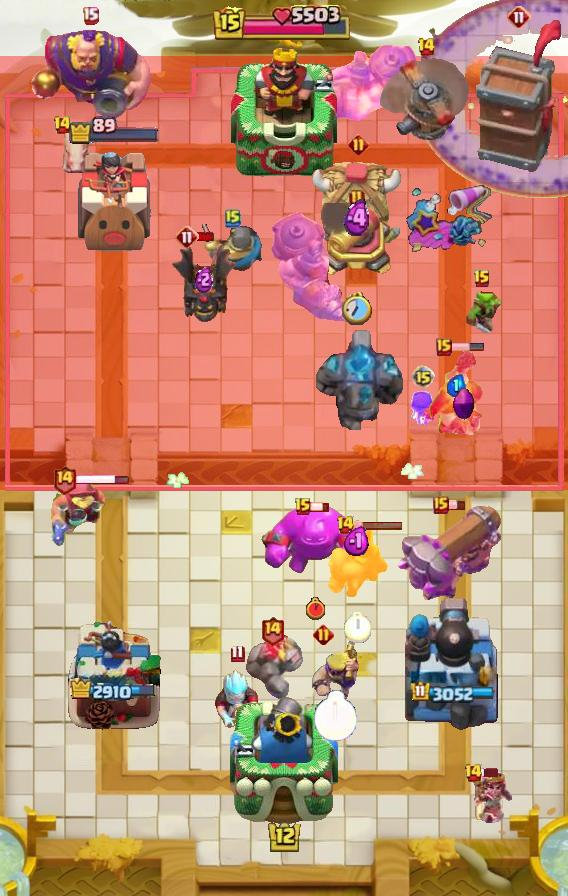archer-evolution: (171, 242, 237, 326)
arrows: (309, 637, 361, 699)
bomber-evolution: (460, 771, 514, 829)
cannoneer-tower: (313, 327, 403, 431)
clock: (213, 5, 355, 43)
clone: (260, 503, 370, 577)
dark-prince: (378, 58, 474, 140)
dart-goblin: (474, 18, 564, 174)
electro-spirit: (344, 199, 373, 238), (343, 527, 371, 558), (195, 265, 213, 293), (446, 375, 466, 398)
elite-barbarian: (325, 521, 389, 601)
elixir: (313, 690, 358, 742), (342, 292, 372, 324), (345, 613, 372, 644), (306, 596, 326, 619)
emote: (74, 473, 129, 486), (352, 521, 404, 532), (449, 342, 485, 352), (196, 231, 216, 243), (310, 501, 330, 513), (446, 500, 466, 511), (480, 766, 500, 777)
fireball: (49, 479, 111, 549)
firecracker: (203, 224, 265, 272)
furnace: (395, 501, 505, 603)
giant: (61, 124, 95, 180)
goblin: (407, 389, 441, 429)
king-tower: (231, 43, 337, 181), (230, 692, 338, 826)
lightning: (26, 29, 155, 121)
mortar: (213, 664, 261, 730)
prince: (311, 160, 405, 250)
queen-tower: (65, 617, 163, 731), (71, 144, 157, 255)
rocket: (414, 0, 568, 198)
royal-recruit: (318, 203, 396, 279)
selected: (67, 115, 160, 144), (70, 678, 158, 704), (411, 681, 495, 703)
skeleton-king-skill: (453, 387, 475, 421)
text: (51, 464, 76, 495), (259, 615, 284, 645), (507, 5, 531, 29), (175, 225, 199, 249), (411, 365, 435, 389), (348, 133, 369, 154), (314, 623, 335, 644), (416, 37, 436, 57), (52, 115, 72, 135), (336, 515, 356, 535), (464, 763, 484, 783), (473, 269, 491, 289), (294, 497, 312, 517), (349, 189, 365, 209), (225, 208, 241, 228), (82, 7, 99, 25), (436, 338, 452, 356), (433, 496, 449, 514), (231, 645, 245, 664)
tower-bar: (405, 595, 501, 731)
valkyrie-evolution: (240, 635, 304, 703)
wall-breaker-evolution: (427, 350, 485, 434)
wizard: (297, 44, 421, 122), (268, 210, 350, 324)
zap: (458, 287, 506, 333)
